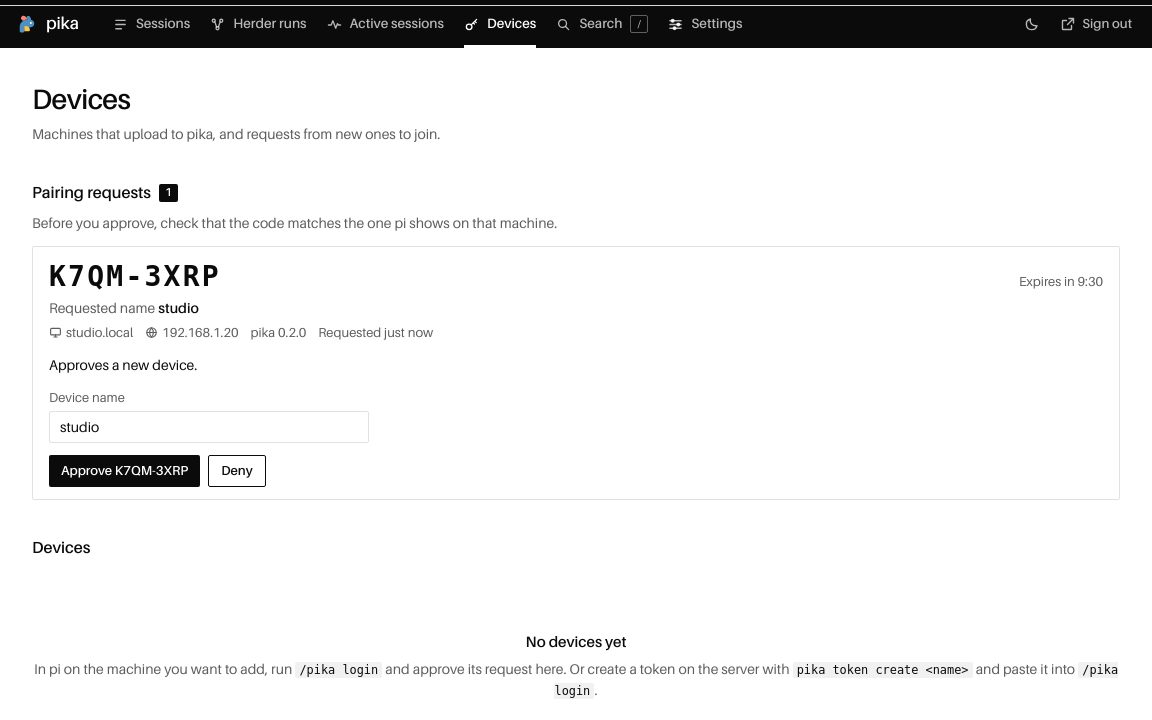
it: devices page › stops refetching the devices a while after an approval whose machine never polls
The width and height of the screenshot is (1152, 720).
Click the button "Approve K7QM-3XRP". click: (125, 471)
box: left=49, top=455, right=200, bottom=487
Wait 66000 ms
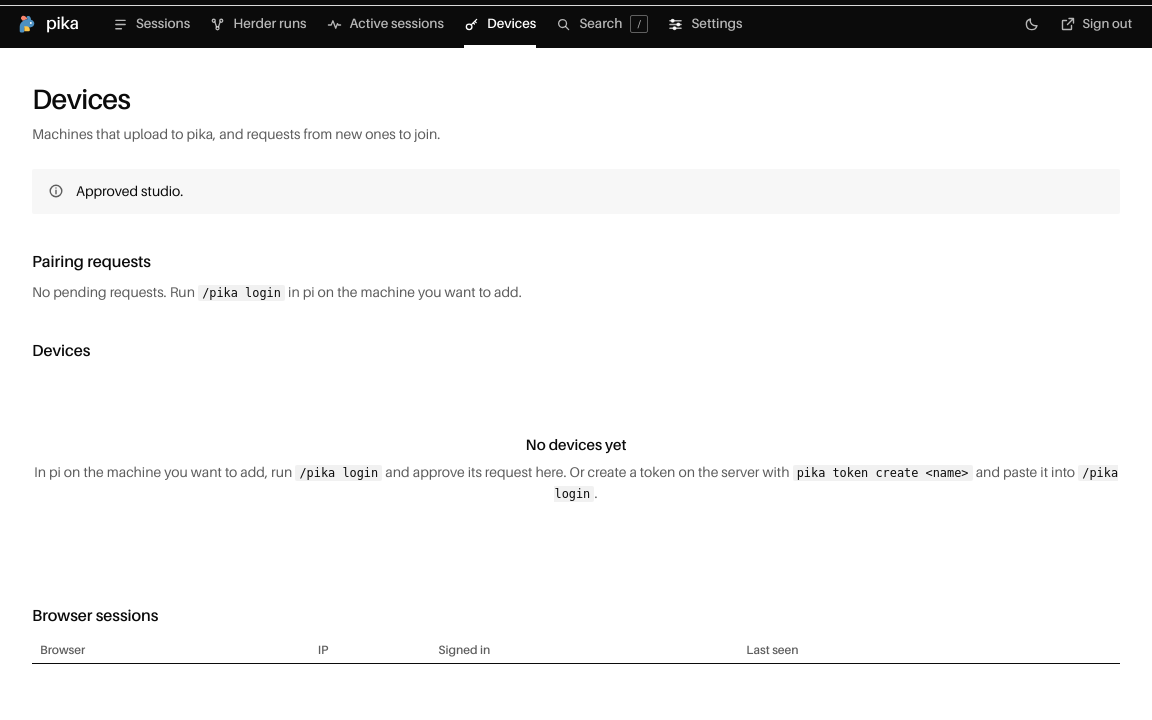
Expected: the text "Approved studio." is shown, left=76, top=183, right=183, bottom=199
